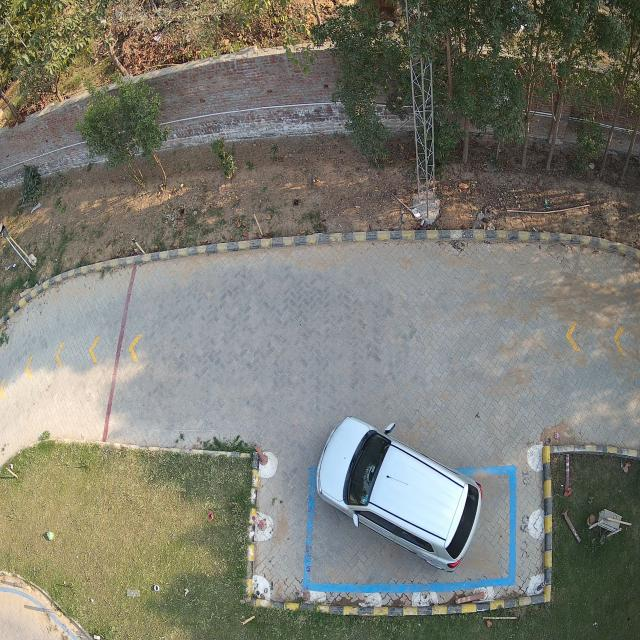car: (316, 417, 482, 572)
